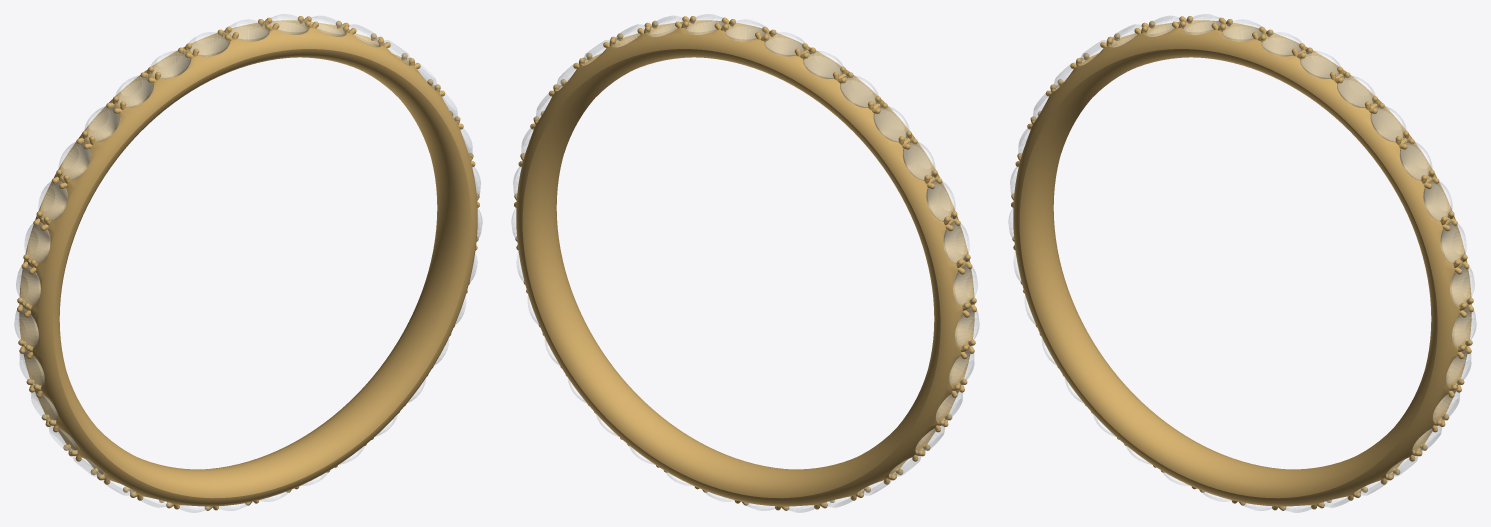
Rendered from layouts-full-eternity.glb.
3 views of the same model, side by side, from view 1: azimuth 30°, elevation 25°; view 2: azimuth 150°, elevation 25°; view 3: azimuth 330°, elevation 25° (orthographic).
Parts seen in each view (by area): view 1: Band, Gem.012, Gem.013, Gem.011, Gem.014, Gem.010, Gem.015, Gem.009, Gem.016, Gem.008, Gem.017, Gem.007 (+1 smaller); view 2: Band, Gem.012, Gem.013, Gem.011, Gem.014, Gem.010, Gem.015, Gem.009, Gem.016, Gem.008, Gem.017, Gem.007 (+1 smaller); view 3: Band, Gem.022, Gem.021, Gem.023, Gem.020, Gem.024, Gem.019, Gem.025, Gem.018, Gem.026, Gem.017, Gem.027 (+1 smaller).
Part boxes in pixels (box(x1,y1,x2,y2)): Band: box(19, 20, 477, 506); Gem.012: box(58, 141, 91, 180); Gem.013: box(84, 106, 120, 141); Gem.011: box(38, 180, 67, 221); Gem.014: box(115, 75, 153, 107); Gem.010: box(24, 222, 50, 264); Gem.015: box(150, 51, 190, 78); Gem.009: box(16, 265, 40, 306); Gem.016: box(189, 32, 229, 56); Gem.008: box(14, 308, 38, 348); Gem.017: box(228, 19, 269, 41); Gem.007: box(19, 349, 44, 387); Band: box(516, 20, 974, 506); Gem.012: box(902, 141, 935, 180); Gem.013: box(873, 106, 909, 141); Gem.011: box(926, 180, 955, 221); Gem.014: box(840, 75, 878, 107); Gem.010: box(943, 222, 969, 264); Gem.015: box(803, 51, 843, 78); Gem.009: box(953, 265, 977, 306); Gem.016: box(764, 32, 804, 56); Gem.008: box(955, 308, 979, 348); Gem.017: box(724, 19, 765, 41); Gem.007: box(949, 349, 974, 387); Band: box(1013, 20, 1471, 506); Gem.022: box(1399, 141, 1432, 180); Gem.021: box(1370, 106, 1406, 141); Gem.023: box(1423, 180, 1452, 221); Gem.020: box(1337, 75, 1375, 107); Gem.024: box(1440, 222, 1466, 264); Gem.019: box(1300, 51, 1340, 78); Gem.025: box(1450, 265, 1474, 306); Gem.018: box(1261, 32, 1301, 56); Gem.026: box(1452, 308, 1476, 348); Gem.017: box(1221, 19, 1262, 41); Gem.027: box(1446, 349, 1471, 387).
Bounding box in the file's own units: 20 × 19.98 × 2.1.
